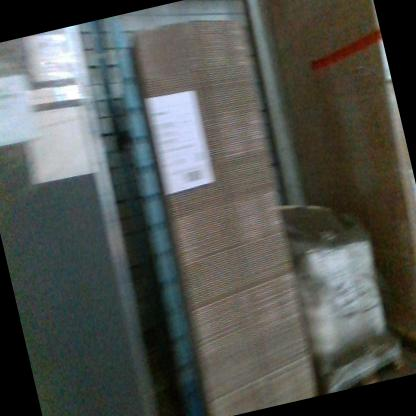pallet: (312, 330, 408, 395), (386, 320, 416, 376)
